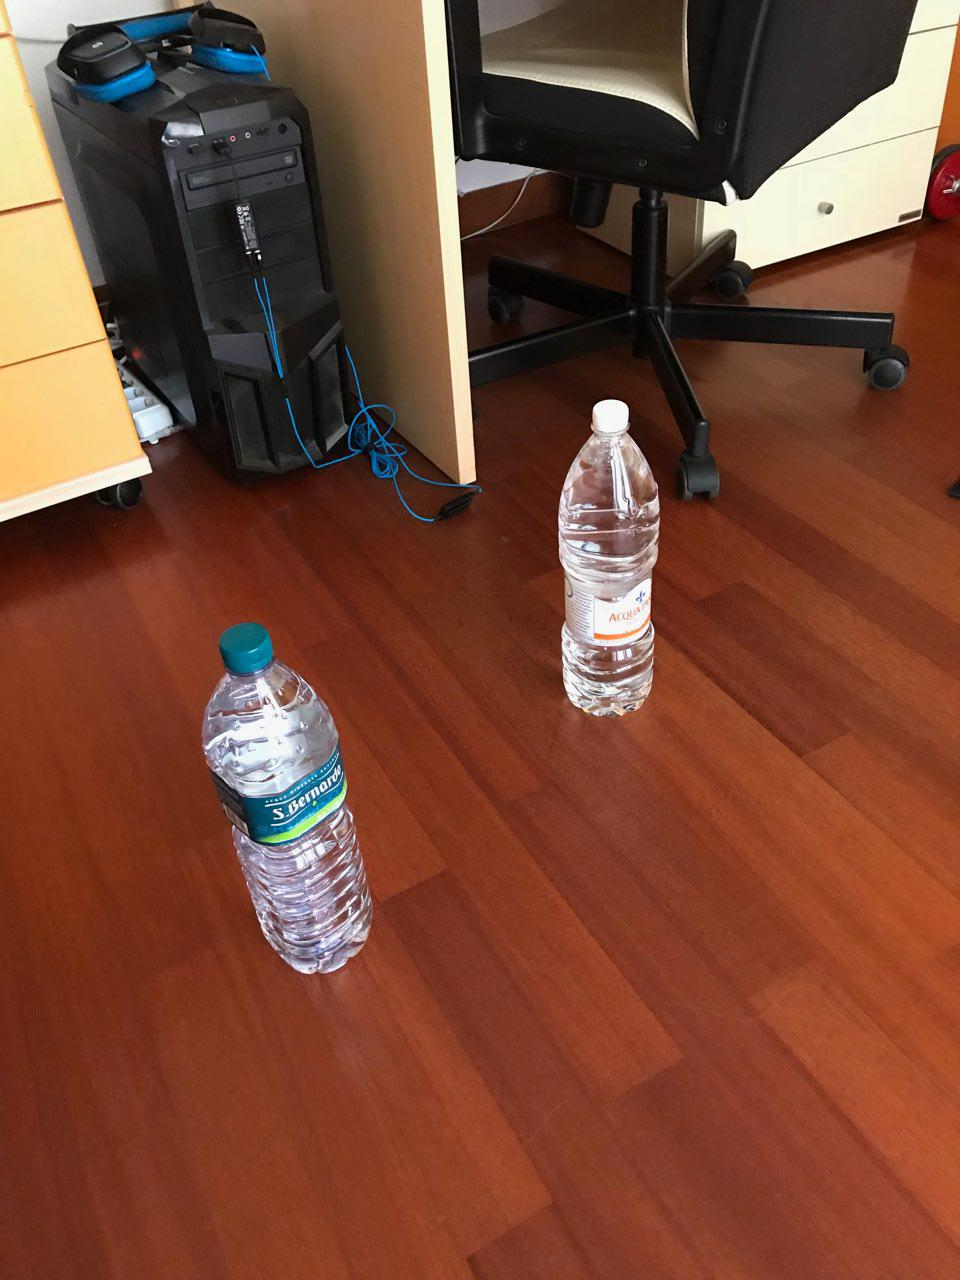san_bernardo: (200, 620, 374, 975)
